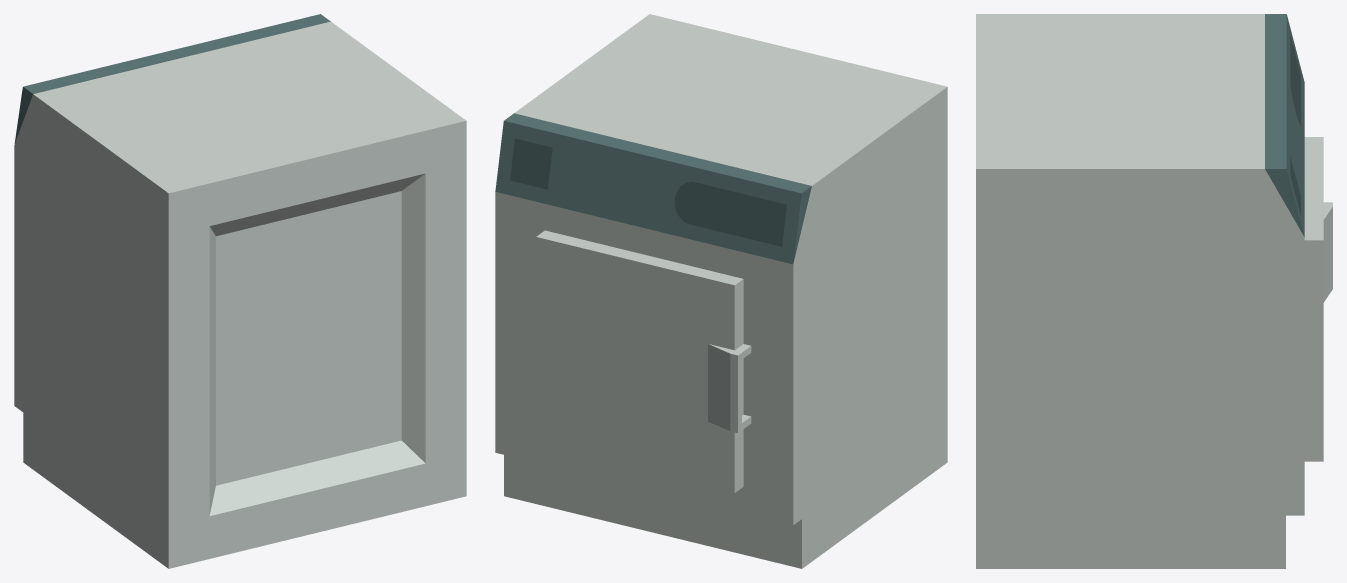
The model's file is Dryer.glb.
3 views of the same model, side by side, from view 1: azimuth 30°, elevation 25°; view 2: azimuth 150°, elevation 25°; view 3: azimuth 270°, elevation 25° (orthographic). The views are drawn at different scales.
Visible parts, largest first — view 1: dryer; view 2: dryer, dryerDoor; view 3: dryer, dryerDoor.
Boxes of the visible parts, x1,y1,x2,y2 form: dryer: (14, 14, 466, 568); dryer: (495, 14, 947, 568); dryerDoor: (536, 230, 751, 492); dryer: (976, 14, 1304, 568); dryerDoor: (1304, 137, 1332, 461).
Size of the model in its own units: 0.39 by 0.47 by 0.38.
